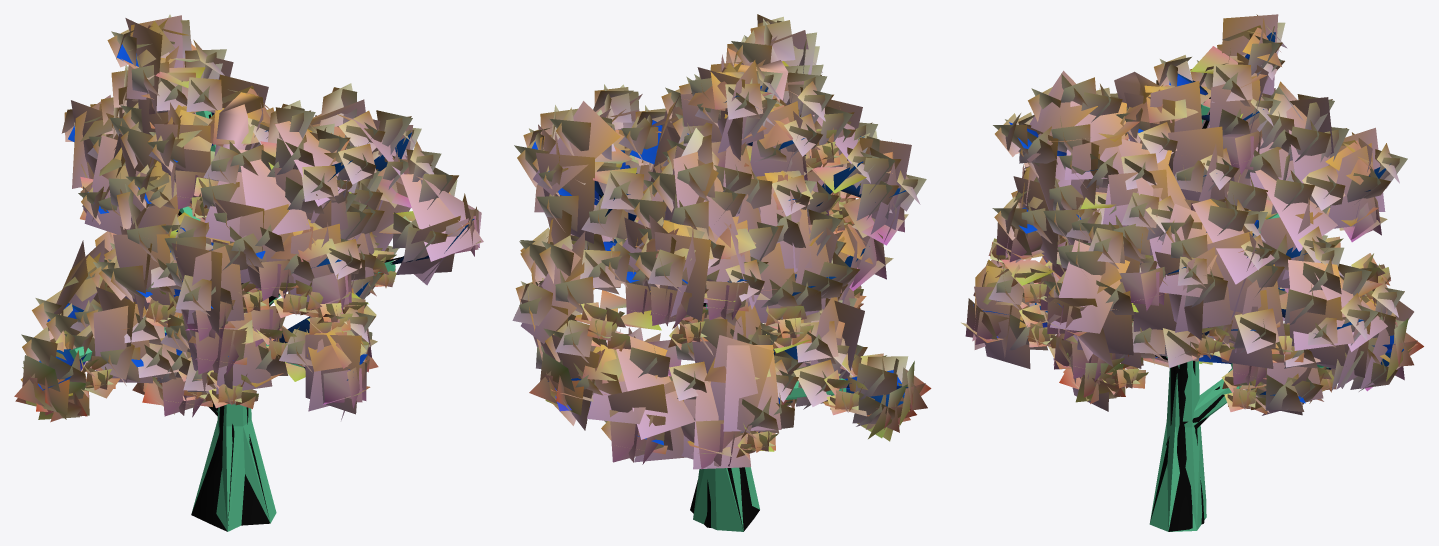
Rendered from tree_oak_large_b.dae.
The picture shows the model from 3 angles, left to right: view 1: azimuth 30°, elevation 25°; view 2: azimuth 150°, elevation 25°; view 3: azimuth 270°, elevation 25°; orthographic projection. The views are drawn at different scales.
Parts seen in each view (by area): view 1: tree_oak_large_b600, tree_oak_large_b220, Colmesh-1; view 2: tree_oak_large_b220, tree_oak_large_b600, Colmesh-1; view 3: tree_oak_large_b220, tree_oak_large_b600, Colmesh-1.
Boxes of the visible parts, x1,y1,x2,y2 form: tree_oak_large_b600: (14,14,483,531); tree_oak_large_b220: (23,19,480,525); Colmesh-1: (69,110,395,531); tree_oak_large_b220: (512,14,931,529); tree_oak_large_b600: (517,20,920,531); Colmesh-1: (693,146,846,531); tree_oak_large_b220: (961,14,1423,522); tree_oak_large_b600: (965,14,1417,531); Colmesh-1: (1132,103,1328,531).
Bounding box in the file's own units: 17.31 × 16.93 × 19.22.
